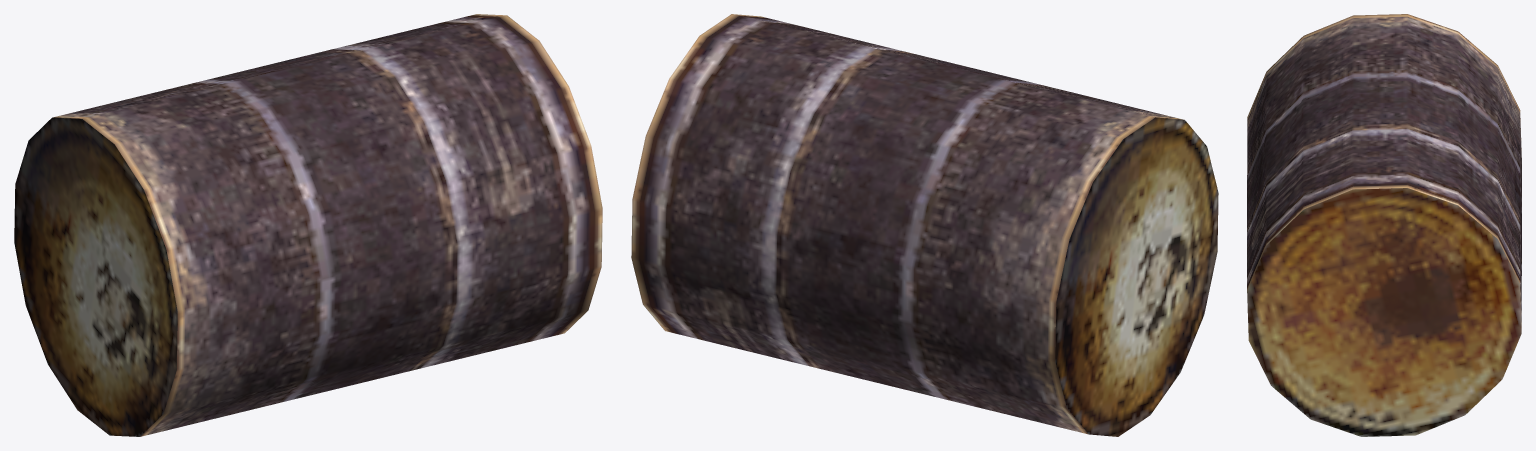
The model's file is sea_barrel.fbx.
The picture shows the model from 3 angles, left to right: view 1: azimuth 30°, elevation 25°; view 2: azimuth 150°, elevation 25°; view 3: azimuth 270°, elevation 25°; orthographic projection. The views are drawn at different scales.
Parts seen in each view (by area): view 1: mesh_1, mesh_0; view 2: mesh_1, mesh_0; view 3: mesh_0, mesh_1.
Part boxes in pixels (x1,y1,x2,y2): mesh_1: (53,14,602,436); mesh_0: (14,117,177,436); mesh_1: (631,14,1184,434); mesh_0: (1055,117,1218,436); mesh_0: (1247,188,1521,436); mesh_1: (1247,14,1521,323).
Bounding box in the file's own units: 88.27 × 58.87 × 58.89.
Materials: 2 (2 with a texture image).
